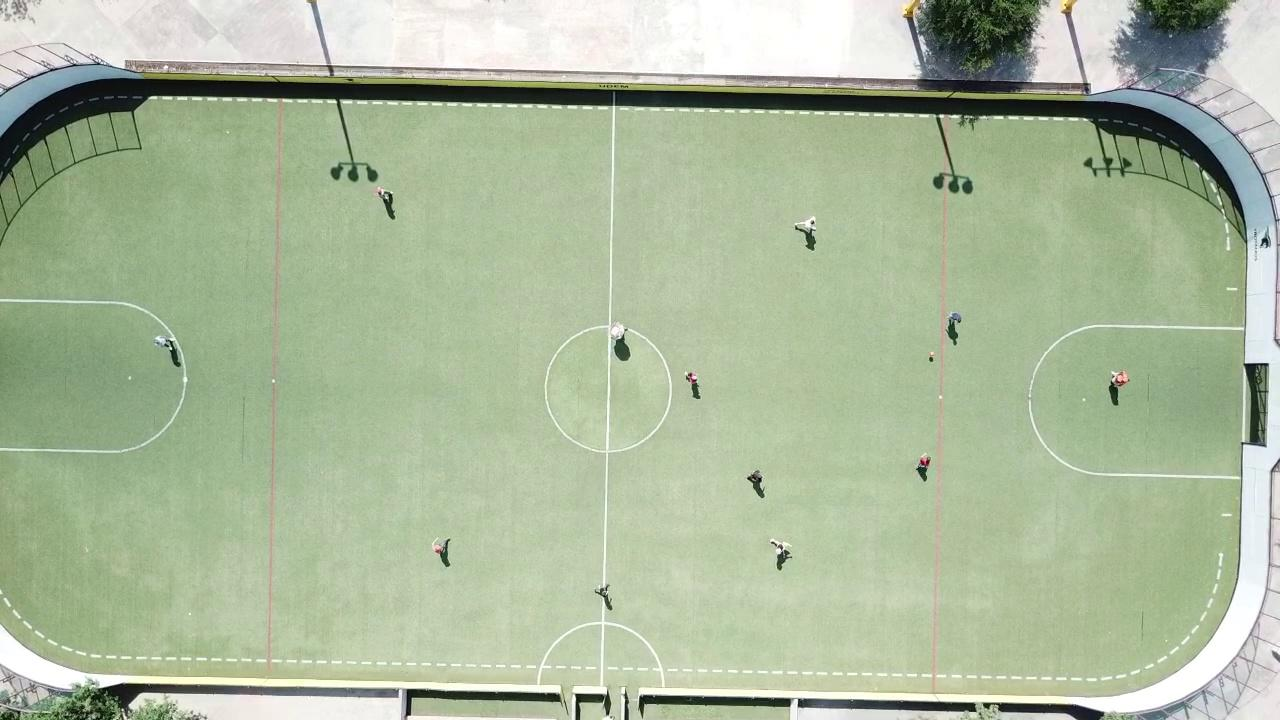ball: (930, 352, 933, 357)
player: (770, 538, 790, 559), (795, 216, 815, 234), (1111, 370, 1128, 388), (432, 537, 449, 555), (375, 186, 392, 204), (609, 322, 625, 341), (154, 336, 174, 349), (594, 584, 609, 600), (746, 470, 762, 484), (917, 453, 930, 469), (947, 311, 960, 323), (685, 371, 697, 383)
